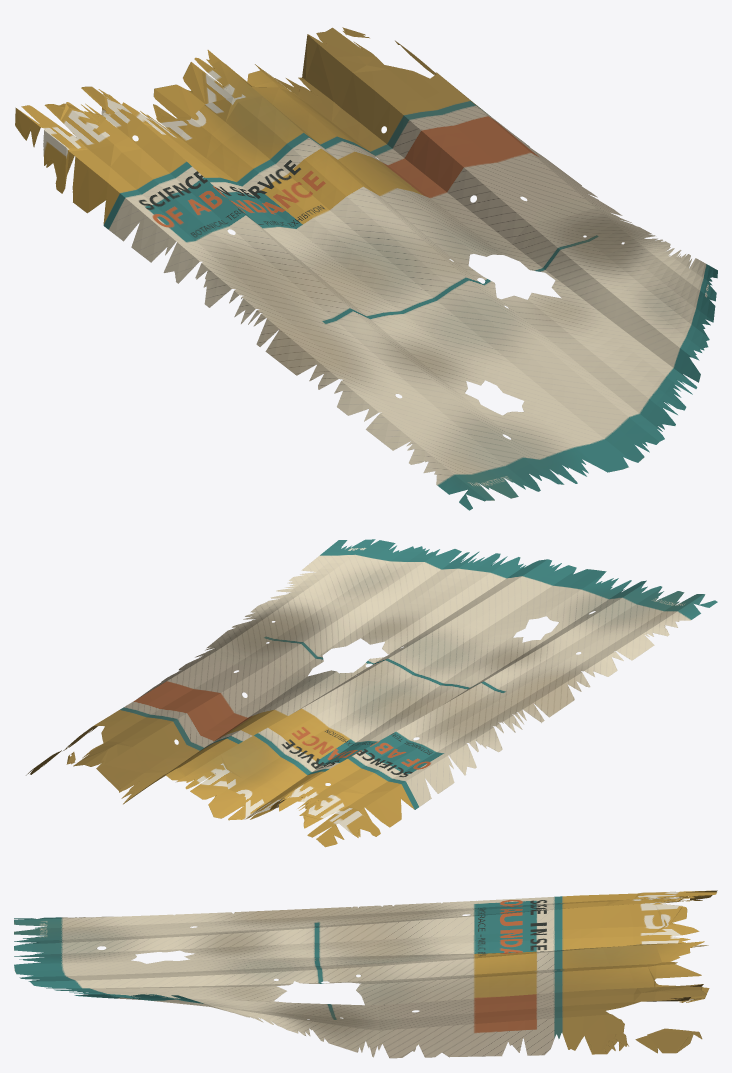
File: VD_Banner_Institute_Torn.obj
The picture shows the model from 3 angles, top to bottom: view 1: azimuth 30°, elevation 25°; view 2: azimuth 150°, elevation 25°; view 3: azimuth 270°, elevation 25°; orthographic projection. The views are drawn at different scales.
Parts seen in each view (by area): view 1: VD_Banner_Institute_Torn; view 2: VD_Banner_Institute_Torn; view 3: VD_Banner_Institute_Torn.
Boxes of the visible parts, x1=… form: VD_Banner_Institute_Torn: x1=15, y1=27, x2=717, y2=510; VD_Banner_Institute_Torn: x1=26, y1=539, x2=717, y2=847; VD_Banner_Institute_Torn: x1=14, y1=890, x2=717, y2=1058.
Bounding box in the file's own units: 159 × 26.38 × 321.
Materials: 1 (1 with a texture image).
